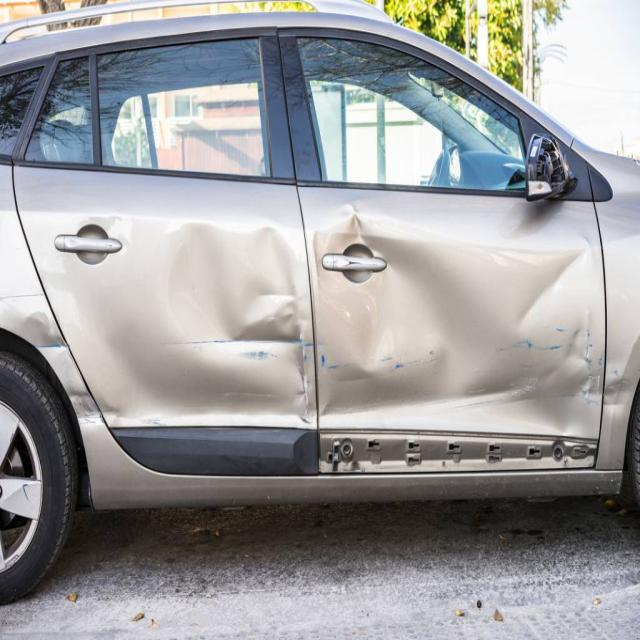crush: (0, 139, 640, 477)
